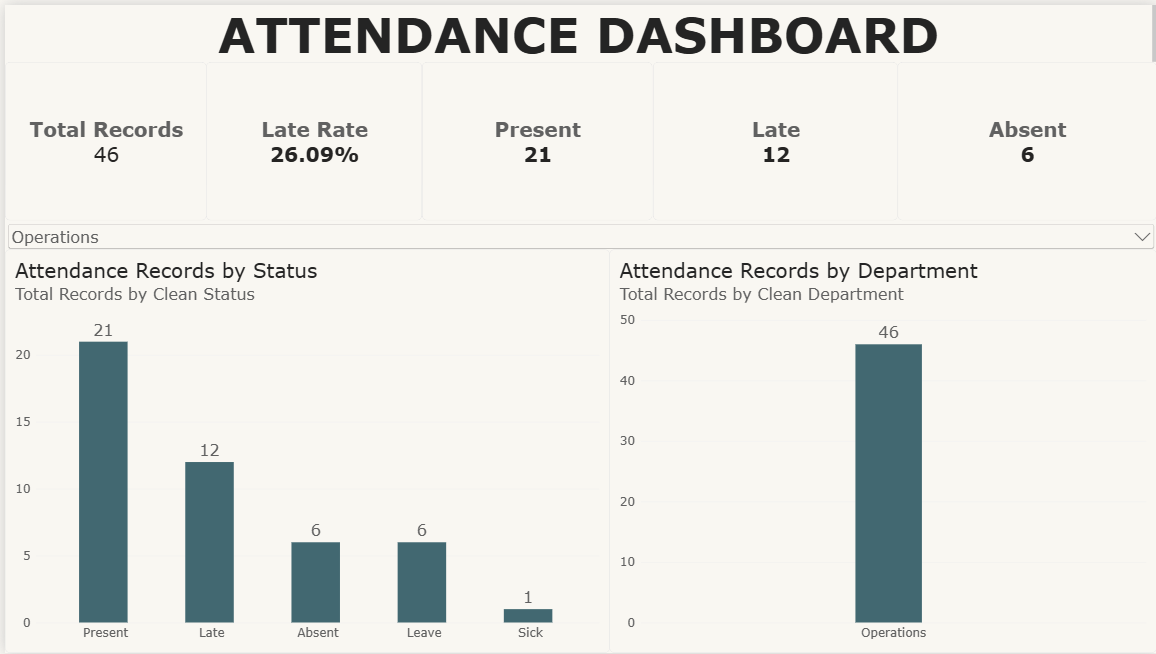

This screenshot's page, from the dashboard's own definition file:
{"tool":"powerbi","page":{"name":"Page 1","canvas":[1920,1080],"ordinal":0},"visuals":[{"type":"cardVisual","fields":{"Data":["CountNonNull(tb1Absensi.Attendance ID)"]},"box":[0,96,336,264],"z":0},{"type":"cardVisual","fields":{"Data":["tb1Absensi.Present Count"]},"box":[696,96,384,264],"z":1},{"type":"cardVisual","fields":{"Data":["tb1Absensi.Late Count"]},"box":[1080,96,408,264],"z":2},{"type":"cardVisual","fields":{"Data":["tb1Absensi.Absent Count"]},"box":[1488,96,432,264],"z":3},{"type":"cardVisual","fields":{"Data":["tb1Absensi.Late Rate (%)"]},"box":[336,96,360,264],"z":4},{"type":"clusteredColumnChart","title":"Attendance Records by Status","fields":{"Category":["tb1Absensi.Clean Status"],"Y":["tb1Absensi.Total Records"]},"box":[0,408,1008,672],"z":5},{"type":"clusteredColumnChart","title":"Attendance Records by Department","fields":{"Category":["tb1Absensi.Clean Department"],"Y":["tb1Absensi.Total Records"]},"box":[1008,408,912,672],"z":6},{"type":"slicer","fields":{"Values":["tb1Absensi.Clean Department"]},"box":[0,360,1920,48],"z":7},{"type":"textbox","box":[0,0,1920,96],"z":8}]}

Visuals, with their boxes in screenshot pixels (x1, y1, x2, y2), scaled from the page's 1920x1080 canvas onto the 1156x654 screenshot:
cardVisual - CountNonNull(tb1Absensi.Attendance ID): [0,58,202,218]
cardVisual - tb1Absensi.Present Count: [419,58,650,218]
cardVisual - tb1Absensi.Late Count: [650,58,896,218]
cardVisual - tb1Absensi.Absent Count: [896,58,1155,218]
cardVisual - tb1Absensi.Late Rate (%): [202,58,419,218]
"Attendance Records by Status" clusteredColumnChart: [0,247,607,653]
"Attendance Records by Department" clusteredColumnChart: [607,247,1155,653]
slicer - tb1Absensi.Clean Department: [0,218,1155,247]
textbox: [0,0,1155,58]
